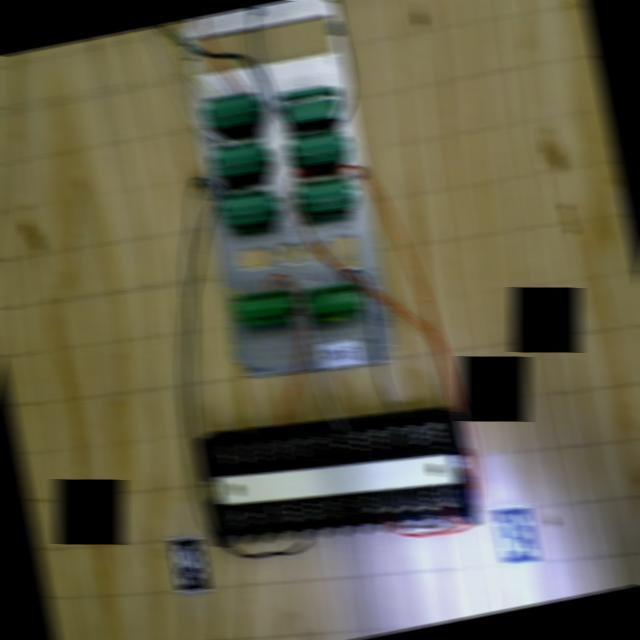Flathead_Block: (196, 411, 480, 551)
Terminal_1: (303, 279, 365, 327), (233, 288, 294, 328)
Terminal_2: (295, 175, 355, 216), (288, 127, 347, 168), (218, 188, 276, 227), (211, 139, 268, 178), (203, 91, 260, 130)
